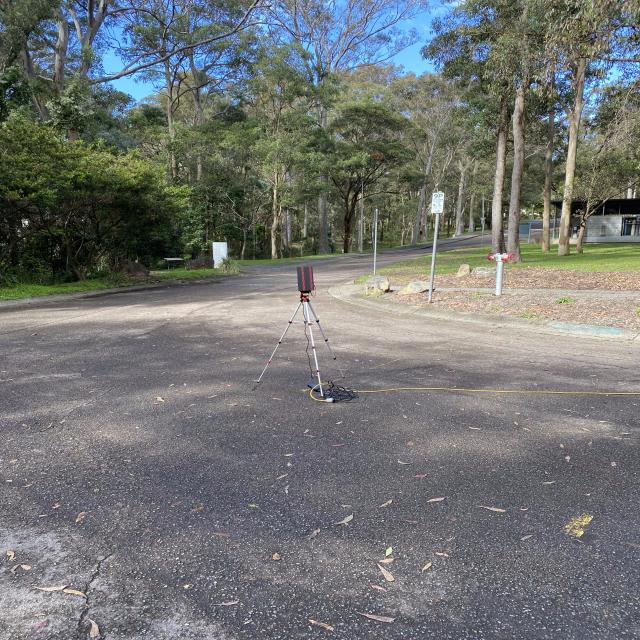matrix: (296, 266, 316, 293)
